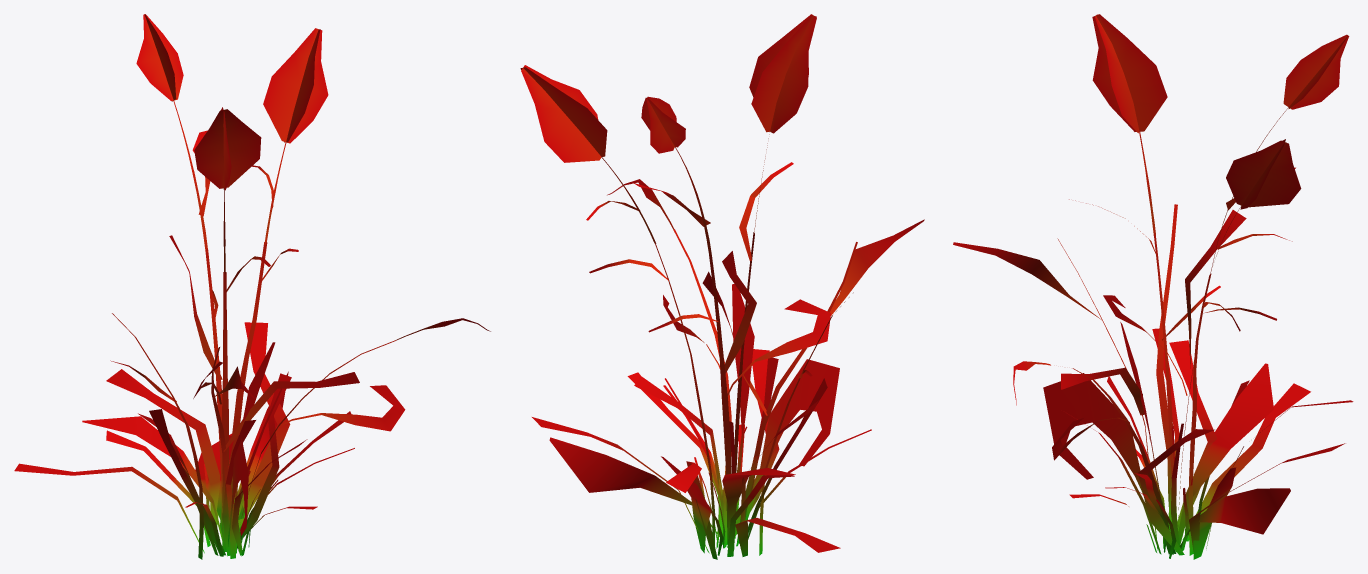
File: Dry Meadow Grass_LOD2_Var3_skljc.fbx
The picture shows the model from 3 angles, left to right: view 1: azimuth 30°, elevation 25°; view 2: azimuth 150°, elevation 25°; view 3: azimuth 270°, elevation 25°; orthographic projection. The views are drawn at different scales.
Visible parts, largest first — view 1: _9572_Var3_LOD2; view 2: _9572_Var3_LOD2; view 3: _9572_Var3_LOD2.
Boxes of the visible parts, bbox=[...] form: _9572_Var3_LOD2: bbox=[14, 14, 490, 559]; _9572_Var3_LOD2: bbox=[520, 14, 924, 559]; _9572_Var3_LOD2: bbox=[953, 14, 1353, 559].
Size of the model in its own units: 82.32 by 109 by 76.54.
